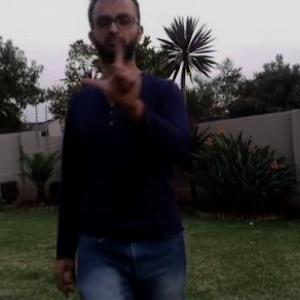land_hand: (80, 32, 147, 107)
